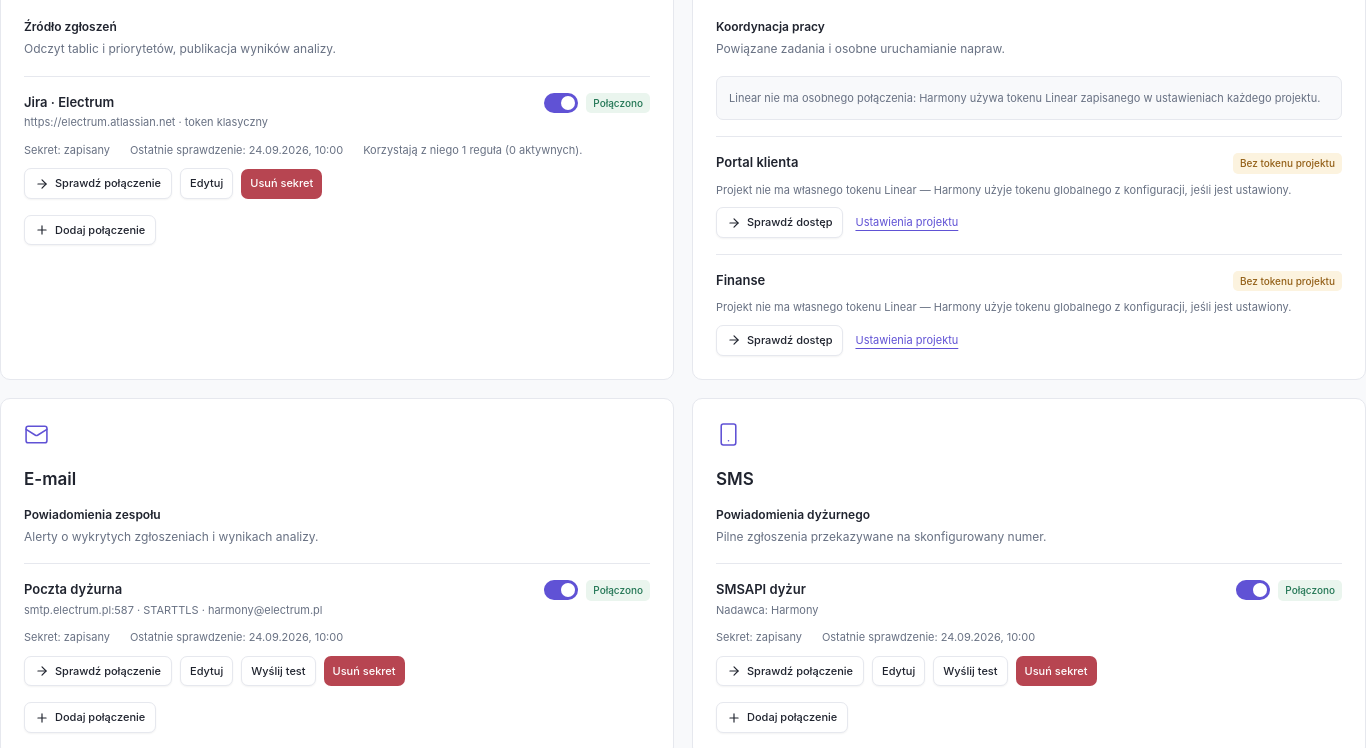
IntegrationsPage — stale checks and the SMTP allowlist (T25b) › shows a connection as unchecked after its settings were changed
(page scrolled)
Expected: the text "Połączono" in the row of "Poczta dyżurna" is shown, [593, 584, 643, 596]
Click the button "Edytuj" below "Poczta dyżurna" at (207, 671), box [180, 656, 233, 686]
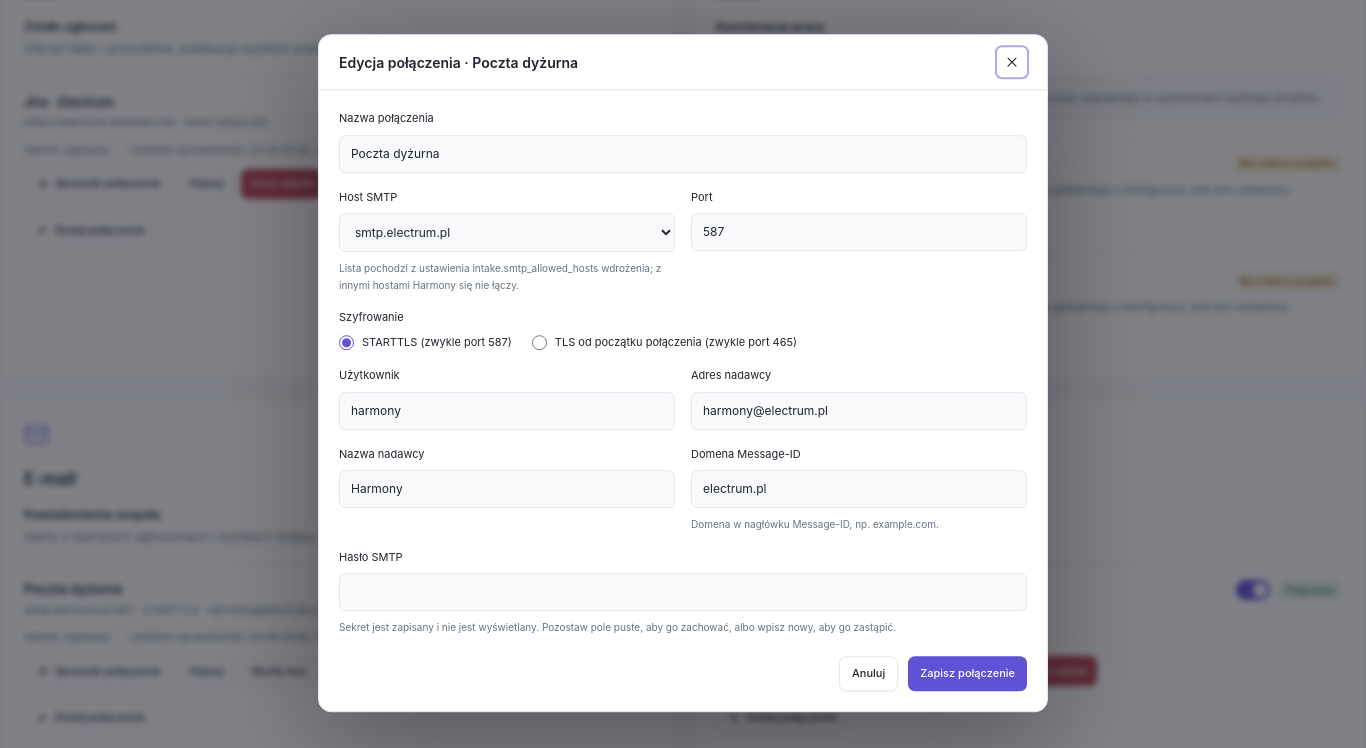
Replace the text in the field labelled "Port" with "2525" at (859, 232), box [691, 213, 1027, 251]
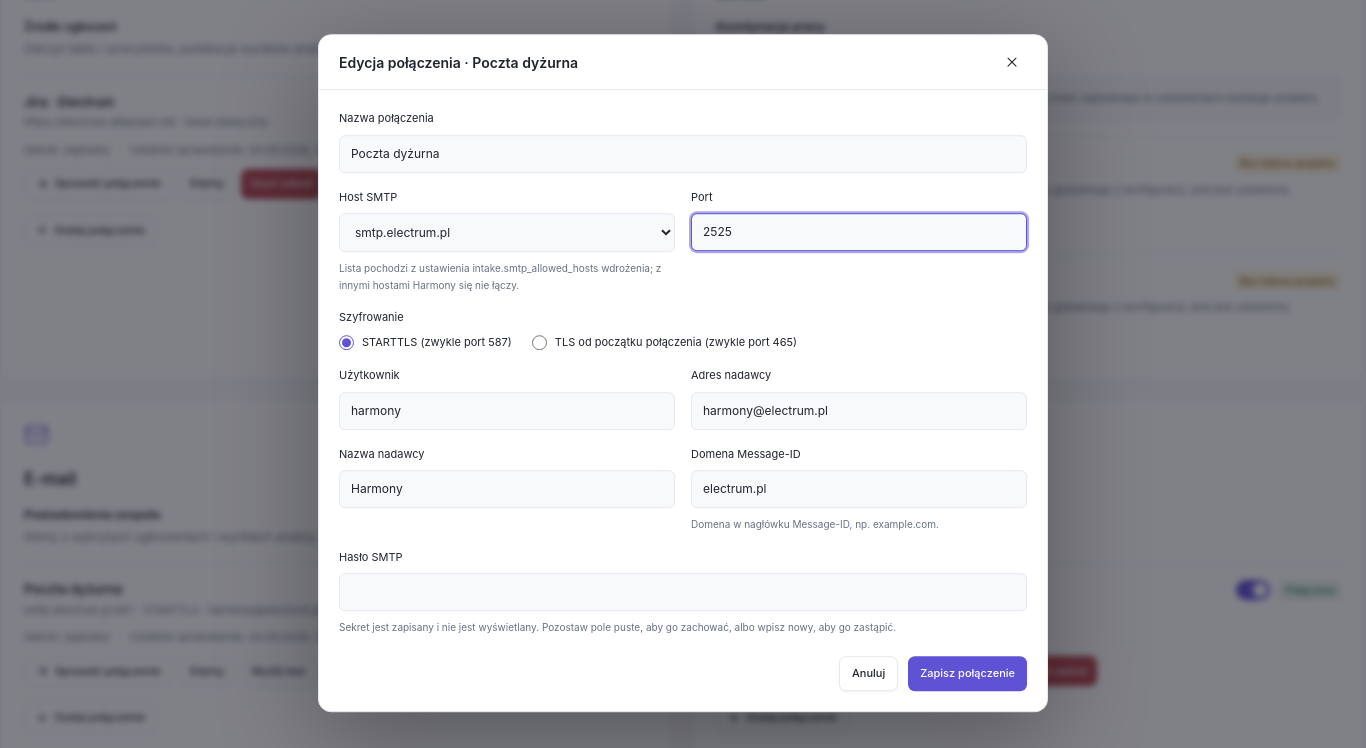
Click the button "Zapisz połączenie" at (968, 673), box [908, 656, 1027, 691]
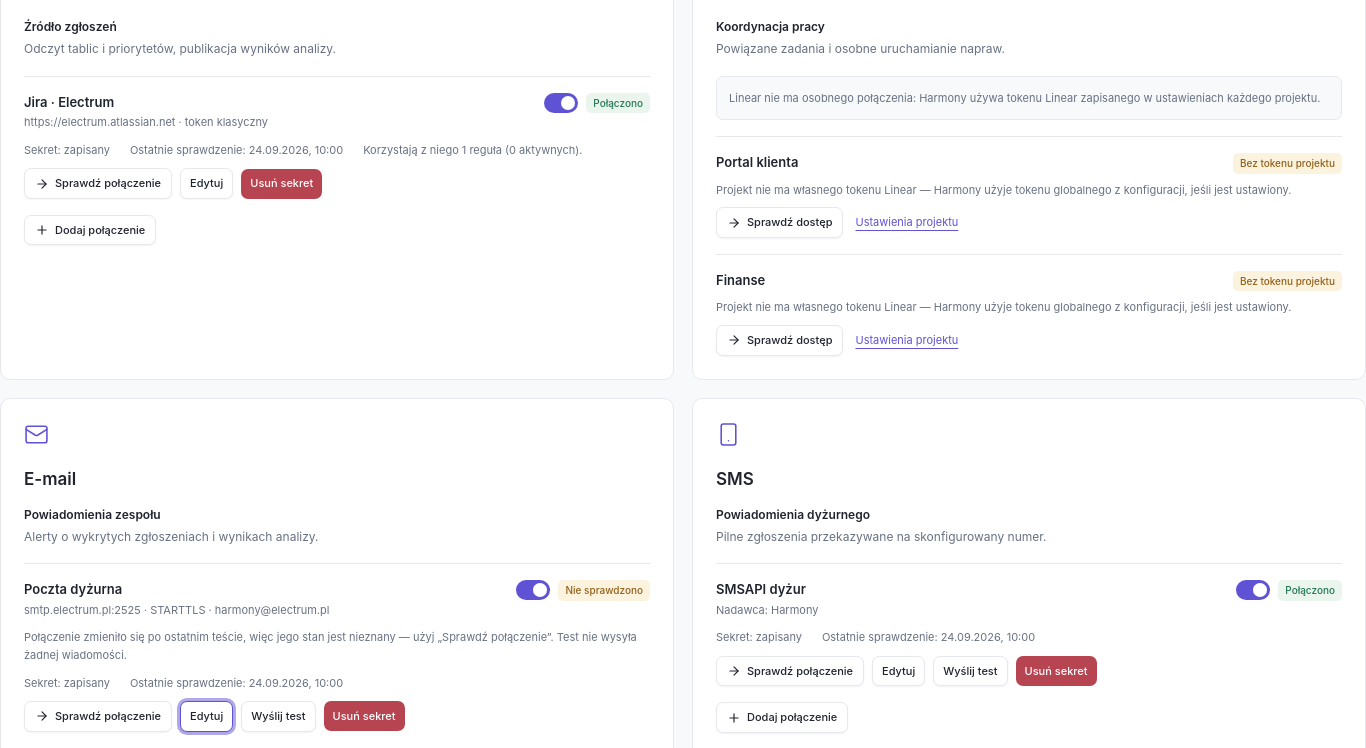
Now the dialog is gone
Now the text "Nie sprawdzono" is shown, box [558, 580, 650, 601]
Now the list item "Poczta dyżurna" shows "zmieniło się po ostatnim teście", box [24, 630, 637, 662]
